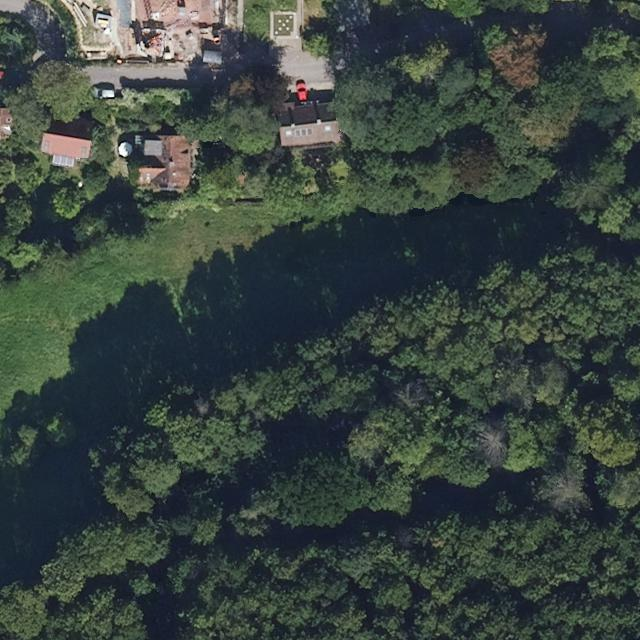PV: (295, 128, 313, 137)
